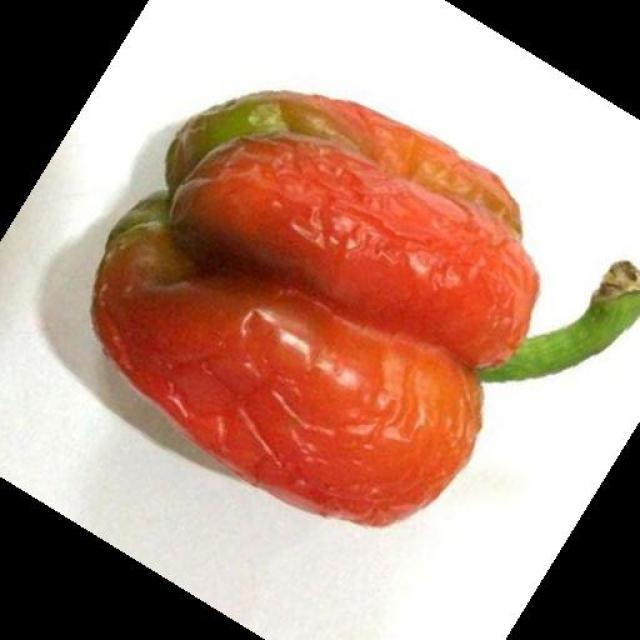Stale_Capsicum: (115, 66, 640, 490)
